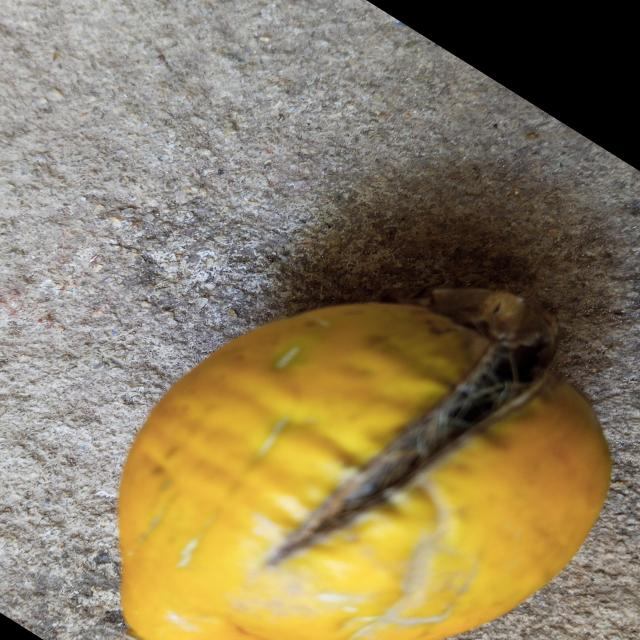damaged: (119, 288, 609, 640)
